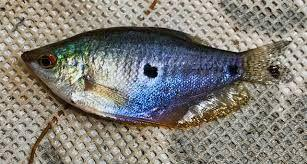Gourami: (21, 25, 293, 129)
